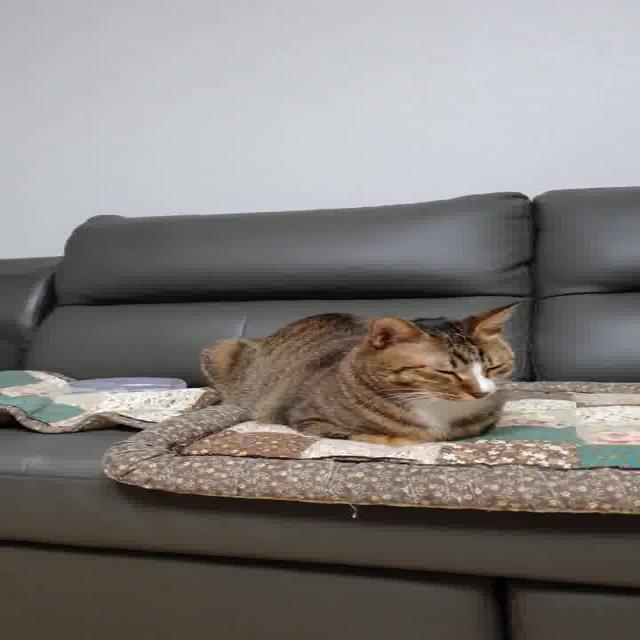cat: (193, 295, 542, 455)
